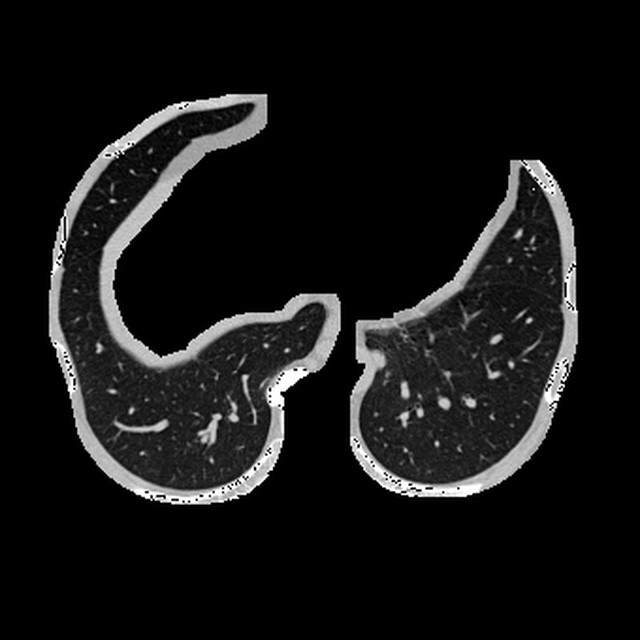PN: (371, 350, 386, 365)
